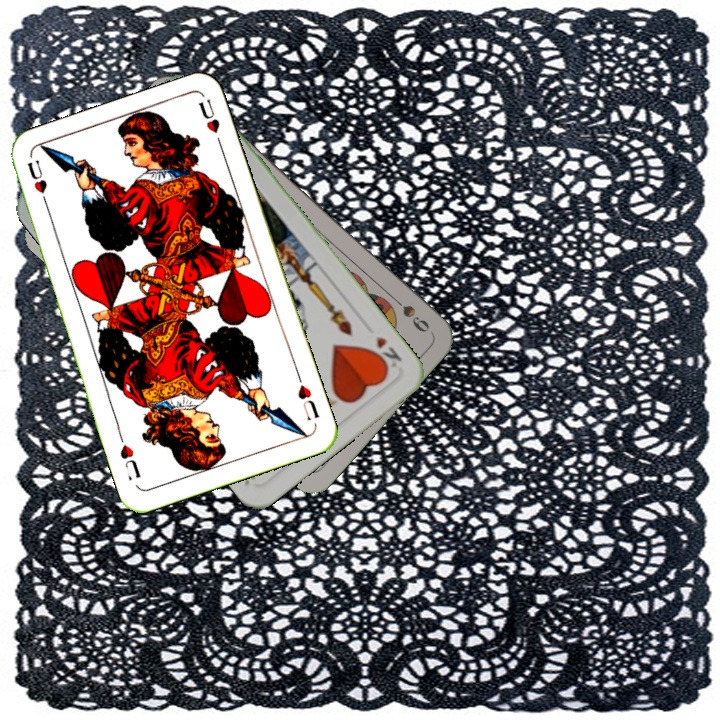HK: (367, 332, 405, 376)
HU: (23, 155, 52, 212), (293, 370, 322, 424)
S9: (385, 290, 432, 336)
